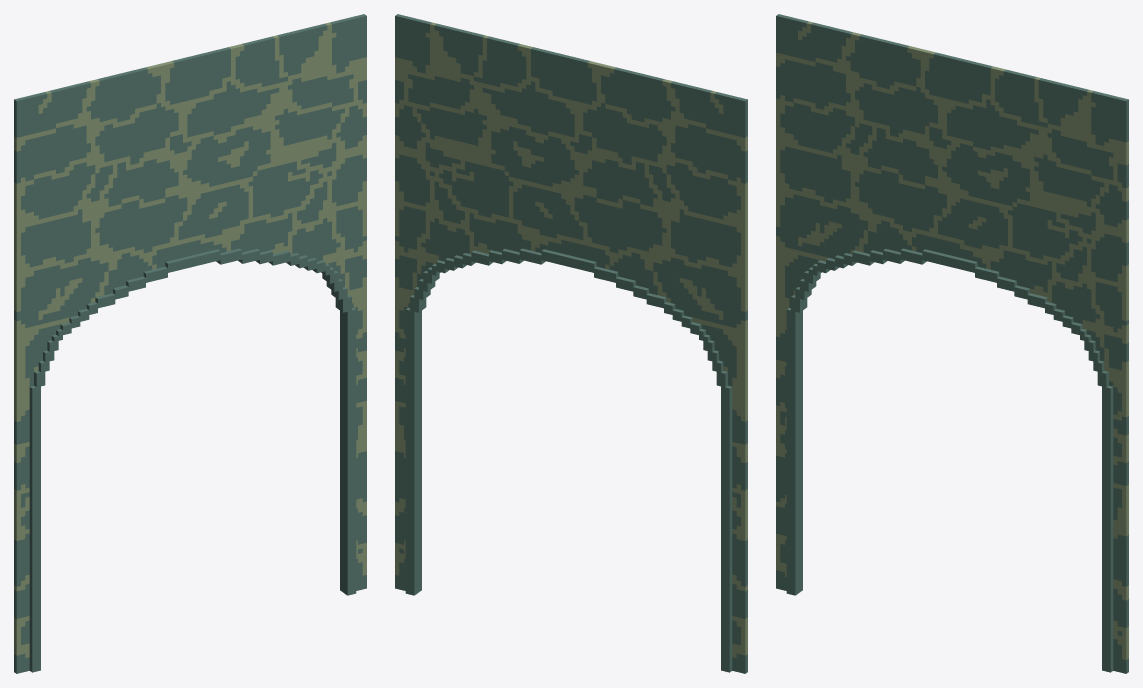
The model's file is paredVerdeConMarco.obj.
3 views of the same model, side by side, from view 1: azimuth 30°, elevation 25°; view 2: azimuth 150°, elevation 25°; view 3: azimuth 330°, elevation 25° (orthographic).
Bounding box in the file's own units: 8 × 12.5 × 0.3.
1 material, 1 textured.
